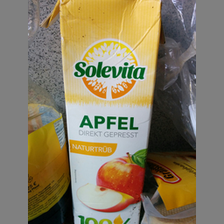juice: (58, 1, 161, 224)
